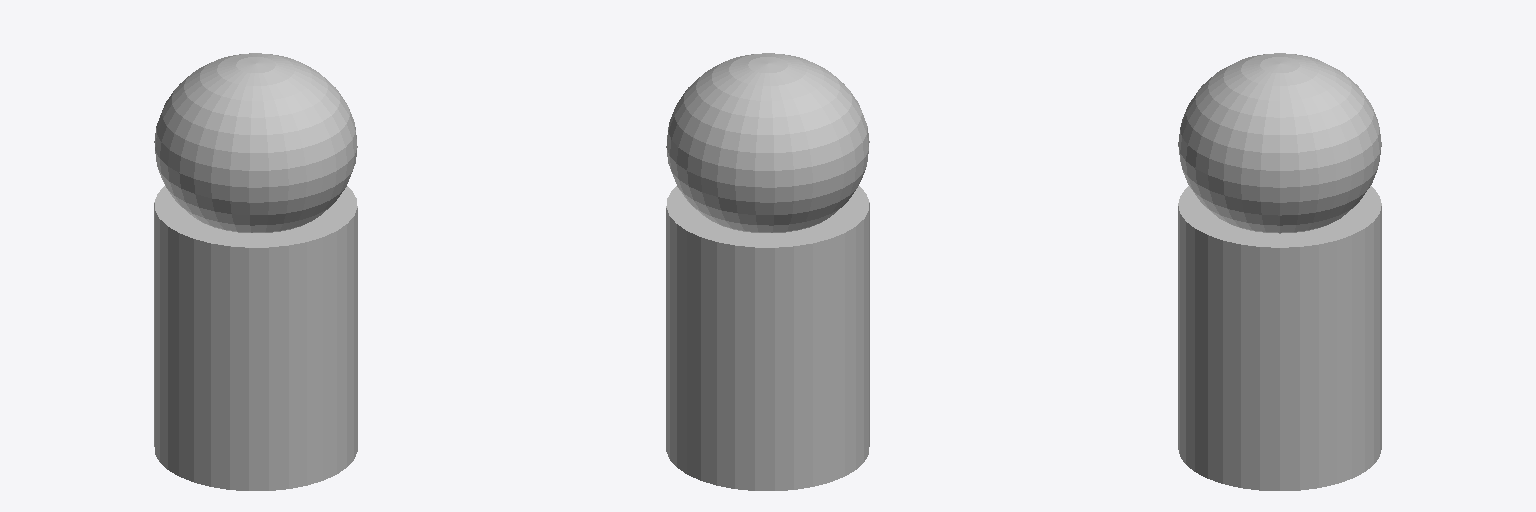
Rendered from Player.obj.
3 renders of one model, left to right at view 1: azimuth 30°, elevation 25°; view 2: azimuth 150°, elevation 25°; view 3: azimuth 270°, elevation 25°, orthographic.
Visible parts, largest first — view 1: Cylinder; view 2: Cylinder; view 3: Cylinder.
Part boxes in pixels (x1,y1,x2,y2): Cylinder: (154, 53, 357, 490); Cylinder: (666, 53, 869, 490); Cylinder: (1178, 53, 1381, 490).
Bounding box in the file's own units: 1 × 2.09 × 1.